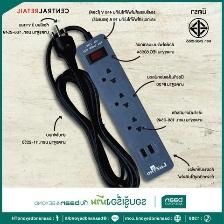three_eye_plug: (74, 31, 176, 183)
